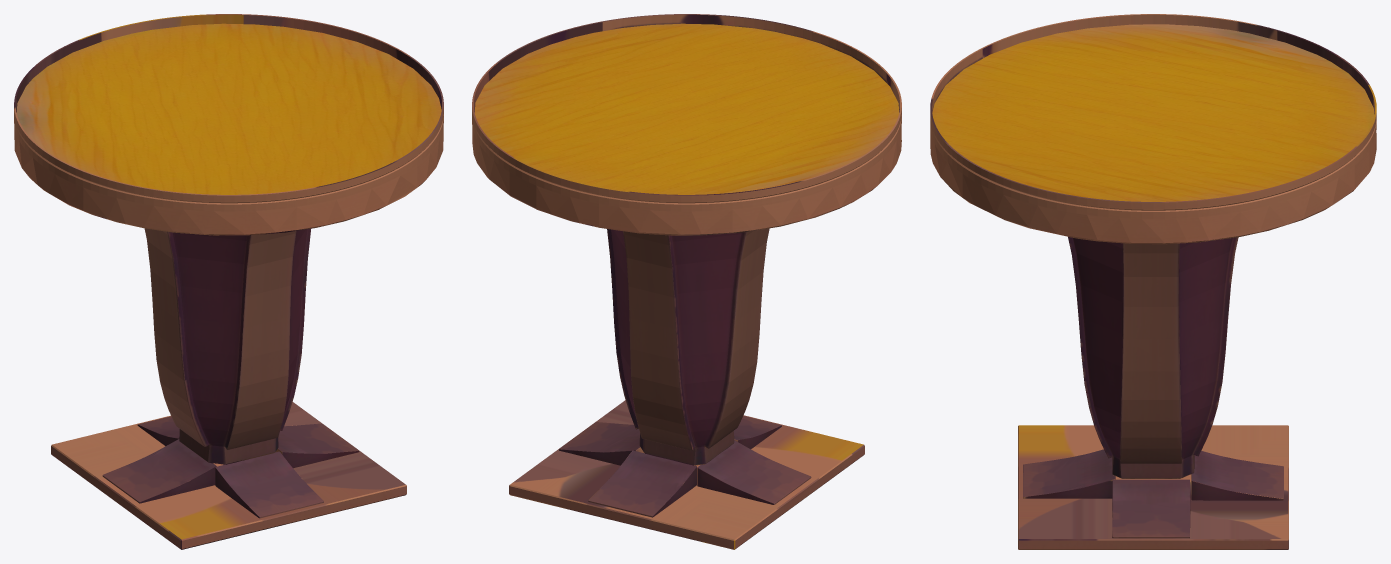
The model's file is edited_mesh.glb.
The picture shows the model from 3 angles, left to right: view 1: azimuth 30°, elevation 25°; view 2: azimuth 150°, elevation 25°; view 3: azimuth 270°, elevation 25°; orthographic projection. The views are drawn at different scales.
Visible parts, largest first — view 1: solid_001_wire; view 2: solid_001_wire; view 3: solid_001_wire.
Part boxes in pixels (bbox=[...]): solid_001_wire: bbox=[14, 14, 443, 549]; solid_001_wire: bbox=[472, 14, 901, 549]; solid_001_wire: bbox=[930, 14, 1376, 549].
Bounding box in the file's own units: 1.38 × 1.31 × 1.38.
1 material, 1 textured.
